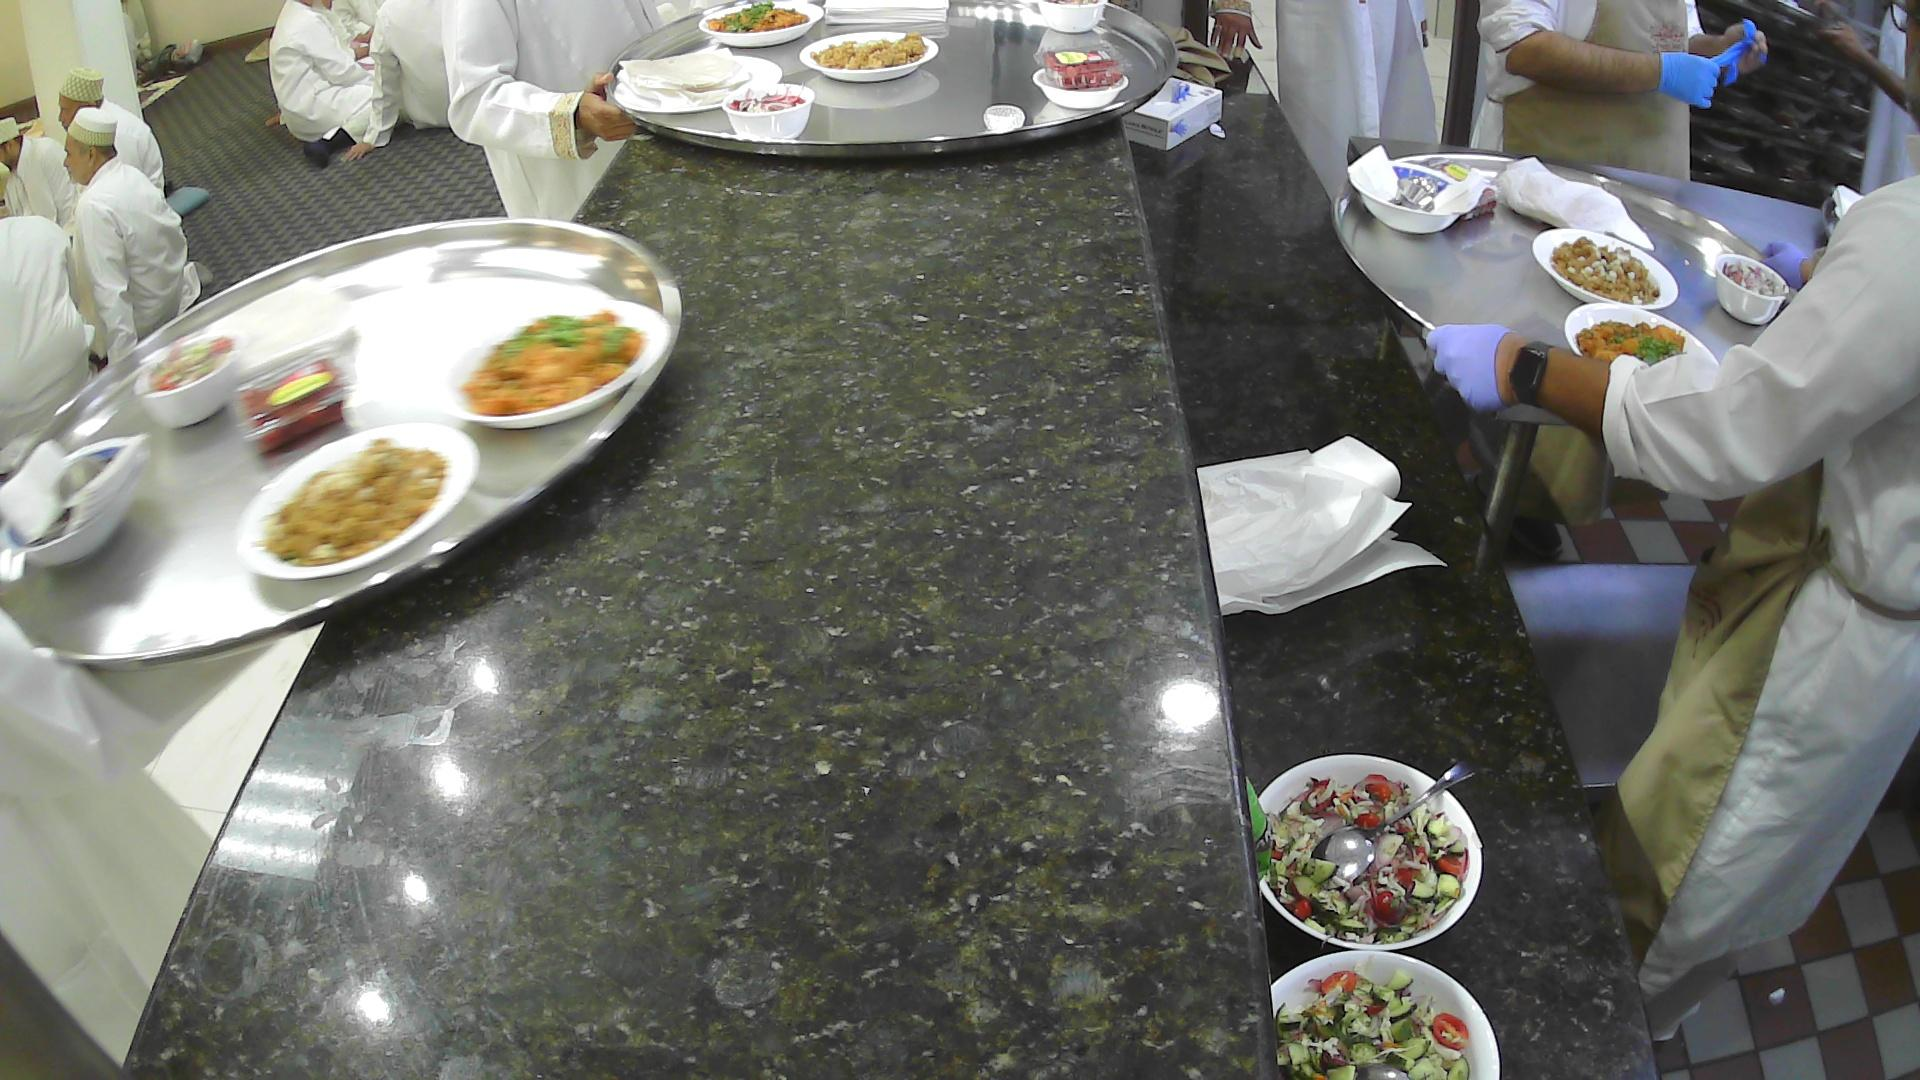thaal: (0, 212, 684, 674), (1329, 148, 1803, 367), (600, 0, 1179, 162)
